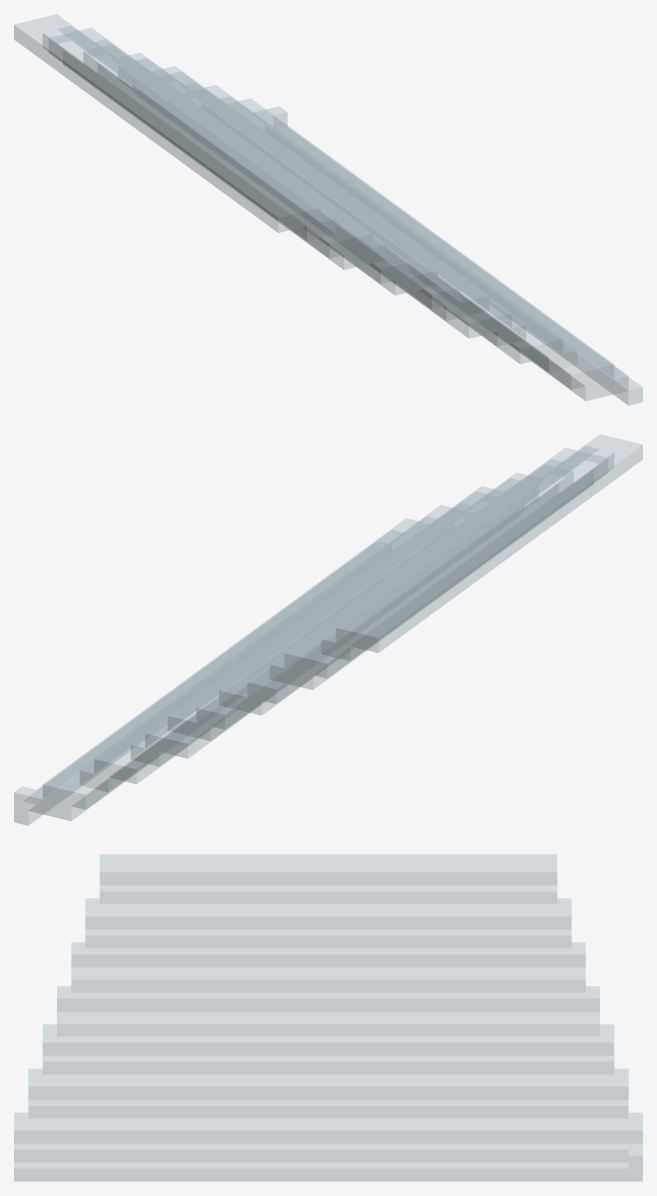
File: coupe_windscreen.glb
3 renders of one model, top to bottom at view 1: azimuth 30°, elevation 25°; view 2: azimuth 150°, elevation 25°; view 3: azimuth 270°, elevation 25°, orthographic. The views are drawn at different scales.
Visible parts, largest first — view 1: body:compound; view 2: body:compound; view 3: body:compound.
Part boxes in pixels (bbox=[...]): body:compound: bbox=[14, 14, 642, 405]; body:compound: bbox=[14, 434, 642, 825]; body:compound: bbox=[14, 854, 642, 1181].
Bounding box in the file's own units: 0.6875 × 0.4688 × 1.38.
